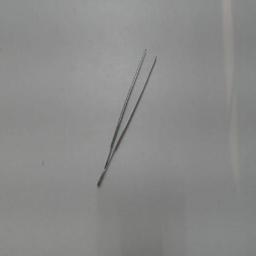Gillies Toothed Dissector: (96, 40, 164, 190)
